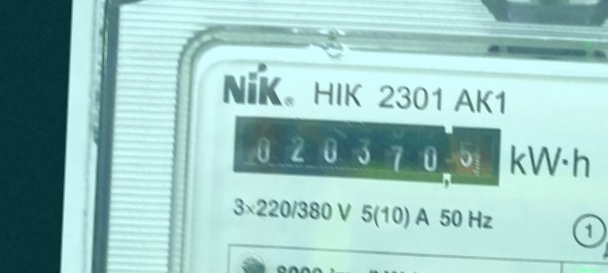0: (421, 143, 440, 174), (254, 134, 272, 164), (322, 135, 338, 163)
2: (288, 133, 307, 165)
3: (355, 135, 372, 166)
5: (457, 138, 476, 170)
7: (388, 143, 404, 173)
screen: (225, 109, 510, 196)
